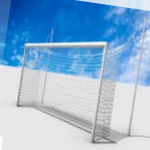goals: (14, 38, 126, 148)
